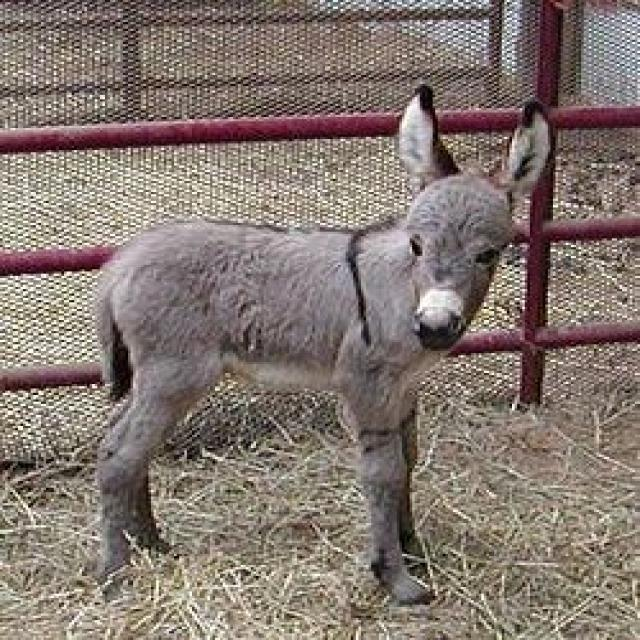Donkey: (87, 86, 550, 610)
